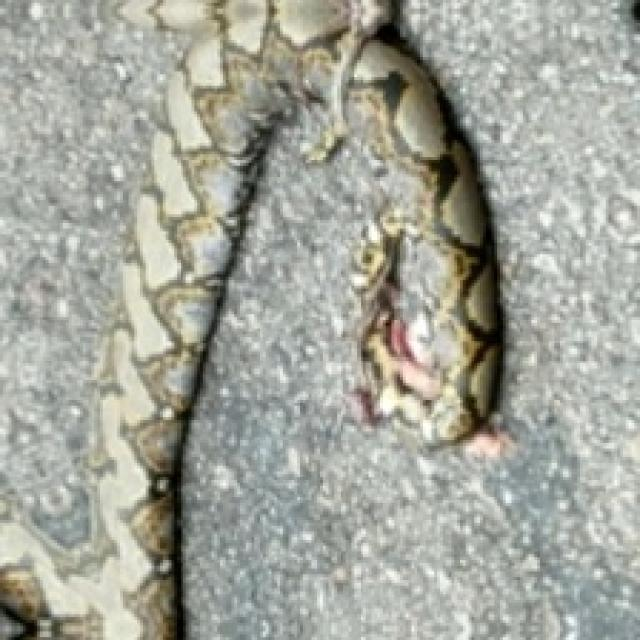reticulated python: (0, 0, 501, 640)
